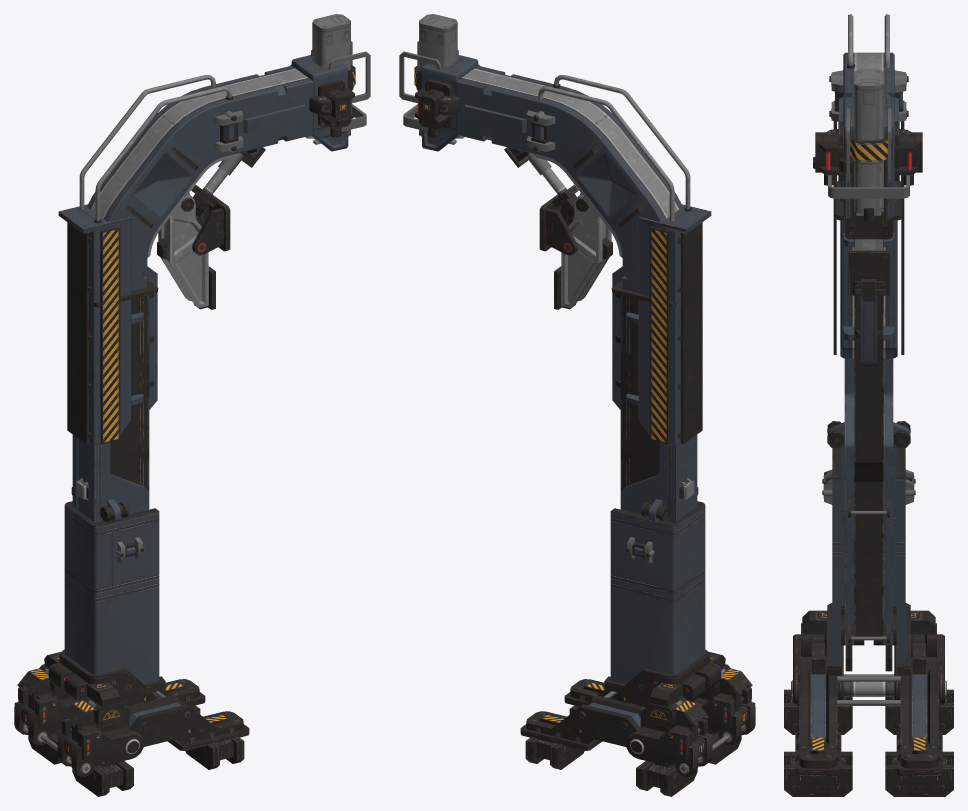
File: Crane_2_L1.fbx
3 views of the same model, side by side, from view 1: azimuth 30°, elevation 25°; view 2: azimuth 150°, elevation 25°; view 3: azimuth 270°, elevation 25° (orthographic). The views are drawn at different scales.
Visible parts, largest first — view 1: Crane_2_L1; view 2: Crane_2_L1; view 3: Crane_2_L1.
Boxes of the visible parts, box(x1,y1,x2,y2) form: Crane_2_L1: box(14, 14, 370, 796); Crane_2_L1: box(399, 14, 755, 796); Crane_2_L1: box(784, 14, 953, 796).
Size of the model in its own units: 402 by 834 by 163.
